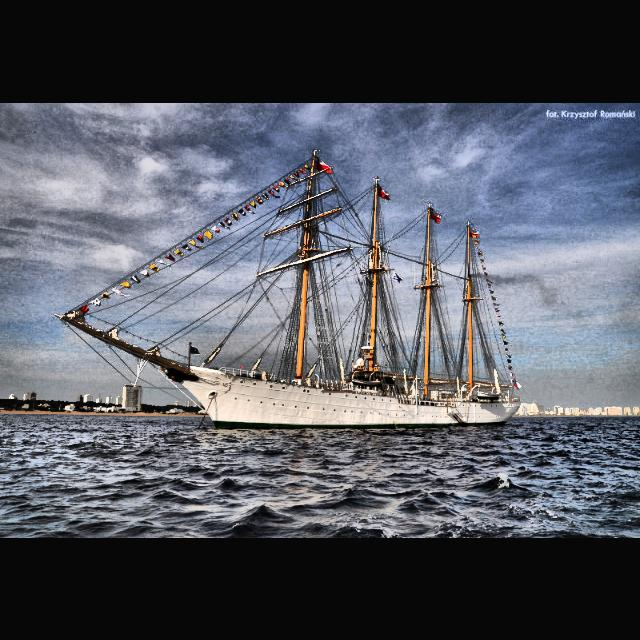sailing_vessel: (54, 146, 522, 430)
